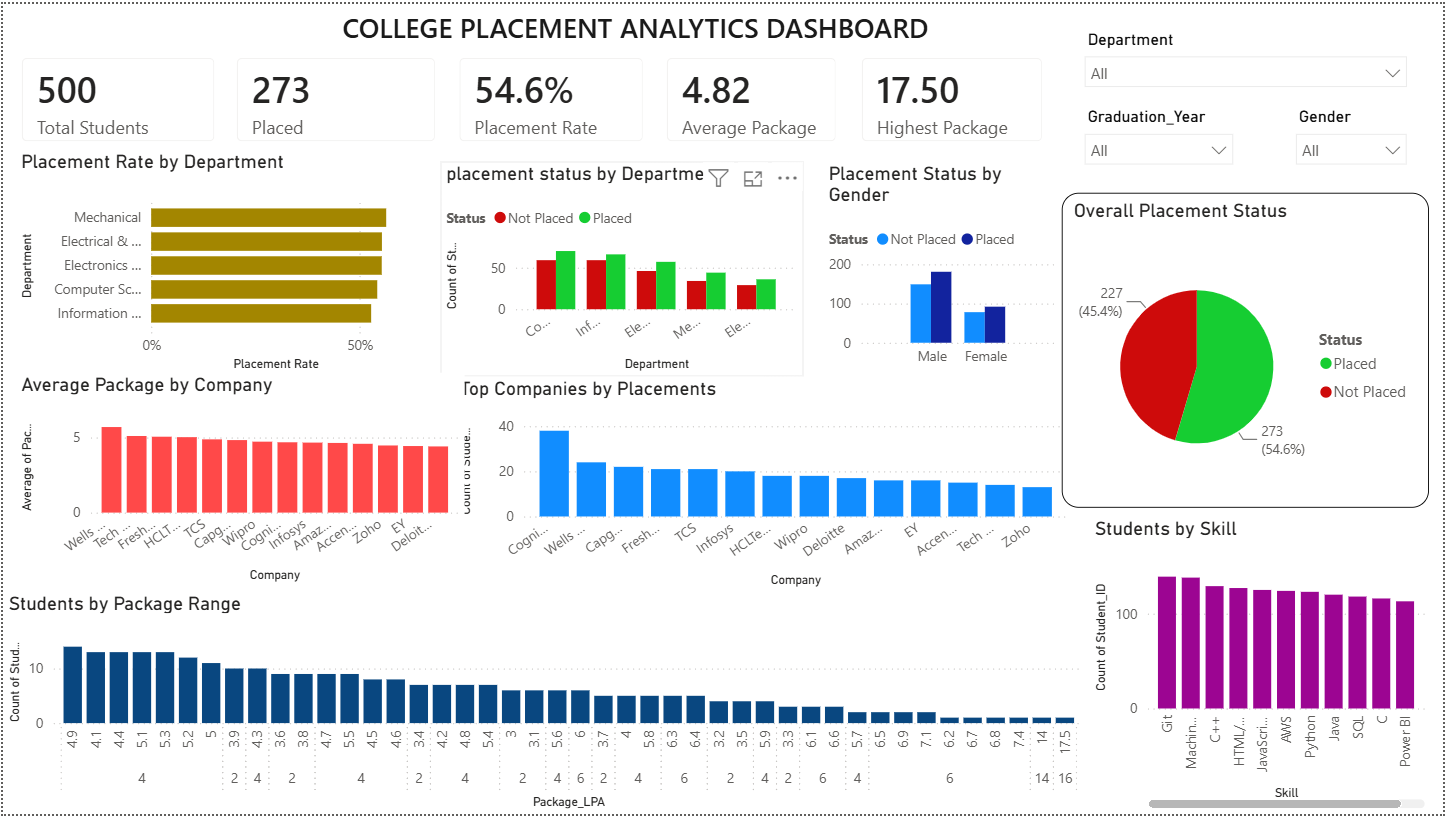

The dashboard page shown, as its layout file describes it:
{"tool":"powerbi","page":{"name":"Page 1","canvas":[1280,720],"ordinal":0},"visuals":[{"type":"cardVisual","fields":{"Data":["Count(Students.Student_ID)"]},"box":[0,31.1,205.6,108.9],"z":0},{"type":"cardVisual","fields":{"Data":["CountNonNull(Students.Student_ID)"]},"box":[191.1,31.1,210,108.9],"z":1000},{"type":"cardVisual","fields":{"Data":["Students.Placement Rate"]},"box":[388.9,31.1,197.8,108.9],"z":2000},{"type":"cardVisual","fields":{"Data":["Placements.Average Package"]},"box":[573.3,31.1,184.4,108.9],"z":3000},{"type":"cardVisual","fields":{"Data":["Placements.Highest Package"]},"box":[746.7,31.1,194.4,108.9],"z":4000},{"type":"clusteredColumnChart","title":"placement status by Department","fields":{"Category":["Students.Department"],"Y":["CountNonNull(Placements.Student_ID)"],"Series":["Placements.Status"]},"box":[388.9,140,322.2,191.1],"z":5000},{"type":"clusteredBarChart","fields":{"Category":["Students.Department"],"Y":["Students.Placement Rate"]},"box":[11.1,130,360,201.1],"z":6000},{"type":"clusteredColumnChart","title":"Top Companies by Placements","fields":{"Category":["Placements.Company"],"Y":["CountNonNull(Placements.Student_ID)"]},"box":[401.1,331.1,550,192.2],"z":7000},{"type":"clusteredColumnChart","title":"Average Package by Company","fields":{"Category":["Placements.Company"],"Y":["Avg(Placements.Package_LPA)"]},"box":[11.1,327.8,398.9,191.1],"z":8000},{"type":"clusteredColumnChart","title":"Students by Skill","fields":{"Category":["Skills.Skill"],"Y":["CountNonNull(Skills.Student_ID)"]},"box":[965.6,455.6,303.3,264.4],"z":9000},{"type":"slicer","fields":{"Values":["Students.Department"]},"box":[951.1,17.8,306.7,68.9],"z":10000},{"type":"slicer","fields":{"Values":["Students.Graduation_Year"]},"box":[951.1,86.7,152.2,70],"z":11000},{"type":"slicer","fields":{"Values":["Students.Gender"]},"box":[1138.9,86.7,118.9,64.4],"z":12000},{"type":"clusteredColumnChart","title":"Placement Status by Gender","fields":{"Category":["Students.Gender"],"Y":["CountNonNull(Students.Student_ID)"],"Series":["Placements.Status"]},"box":[728.9,140,212.2,191.1],"z":13000},{"type":"clusteredColumnChart","title":"Students by Package Range","fields":{"Category":["Placements.Package_LPA (bins)","Placements.Package_LPA"],"Y":["CountNonNull(Placements.Student_ID)"]},"box":[0,522.2,965.6,197.8],"z":14000},{"type":"pieChart","title":"Overall Placement Status","fields":{"Category":["Placements.Status"],"Y":["CountNonNull(Placements.Student_ID)"]},"box":[941.1,167.8,326.7,280],"z":14001},{"type":"textbox","box":[296.7,0,564.4,42.2],"z":14002}]}

Visuals, with their boxes in screenshot pixels (x1, y1, x2, y2), scaled from the page's 1280x720 canvas onto the 1446x817 screenshot:
cardVisual - Count(Students.Student_ID): box(0, 35, 232, 159)
cardVisual - CountNonNull(Students.Student_ID): box(216, 35, 453, 159)
cardVisual - Students.Placement Rate: box(439, 35, 663, 159)
cardVisual - Placements.Average Package: box(648, 35, 856, 159)
cardVisual - Placements.Highest Package: box(844, 35, 1063, 159)
"placement status by Department" clusteredColumnChart: box(439, 159, 803, 376)
clusteredBarChart - Students.Department x Students.Placement Rate: box(13, 148, 419, 376)
"Top Companies by Placements" clusteredColumnChart: box(453, 376, 1074, 594)
"Average Package by Company" clusteredColumnChart: box(13, 372, 463, 589)
"Students by Skill" clusteredColumnChart: box(1091, 517, 1433, 816)
slicer - Students.Department: box(1074, 20, 1421, 98)
slicer - Students.Graduation_Year: box(1074, 98, 1246, 178)
slicer - Students.Gender: box(1287, 98, 1421, 171)
"Placement Status by Gender" clusteredColumnChart: box(823, 159, 1063, 376)
"Students by Package Range" clusteredColumnChart: box(0, 593, 1091, 816)
"Overall Placement Status" pieChart: box(1063, 190, 1432, 508)
textbox: box(335, 0, 973, 48)
